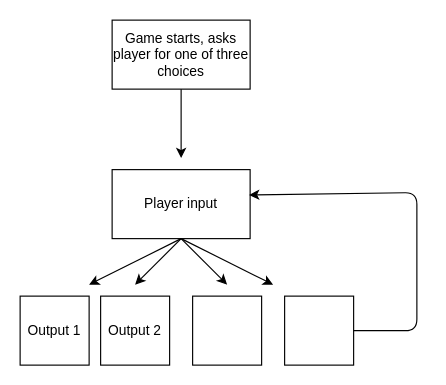
The diagram is 446 pixels wide and 385 high, and some of its shapes have lost their labels. The centre of each missing label's shape, as x and y in pixels:
Any other input: the point at 318,330
Output 3: the point at 226,330
